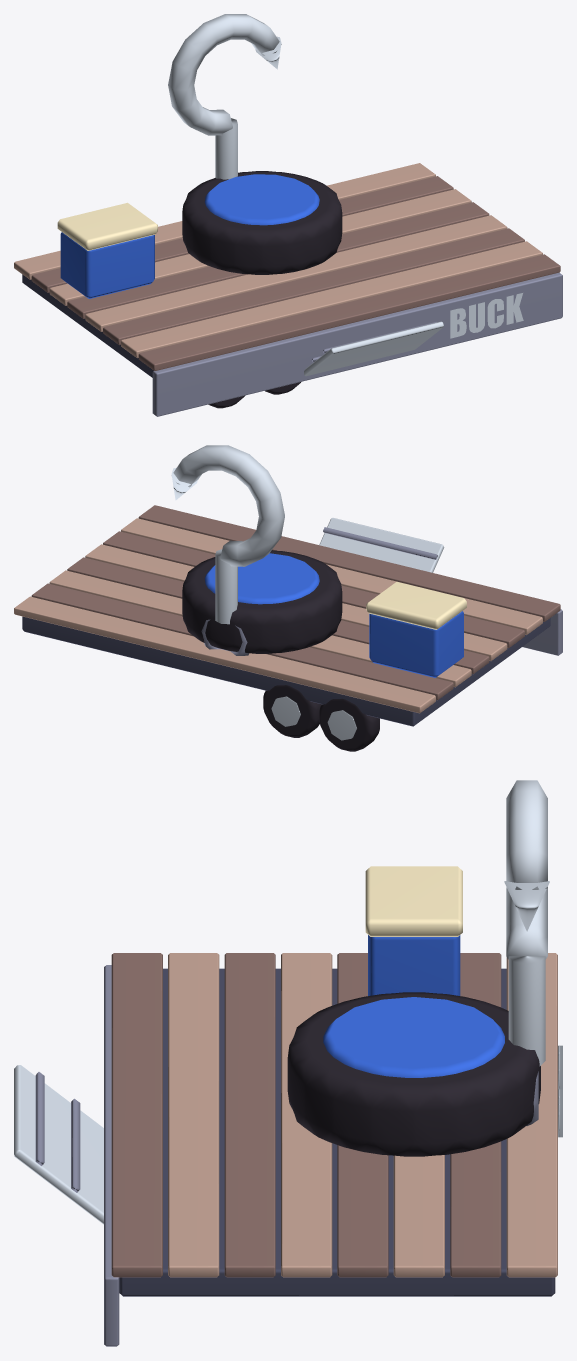
The model's file is buck_stage.glb.
3 renders of one model, top to bottom at view 1: azimuth 30°, elevation 25°; view 2: azimuth 150°, elevation 25°; view 3: azimuth 270°, elevation 25°, orthographic. The views are drawn at different scales.
Visible parts, largest first — view 1: Stage; view 2: Stage; view 3: Stage.
Part boxes in pixels (box(x1,y1,x2,y2)): Stage: box(14, 14, 562, 416); Stage: box(14, 445, 562, 751); Stage: box(14, 780, 562, 1346).
Size of the model in its own units: 2.9 by 1.82 by 2.14.
